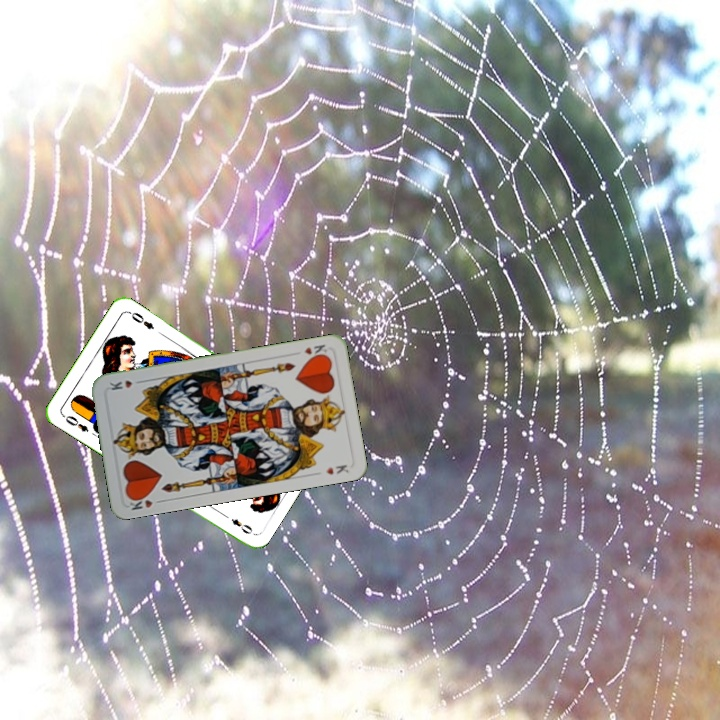EO: (58, 411, 91, 434)
HK: (124, 491, 166, 513), (300, 340, 329, 357)
